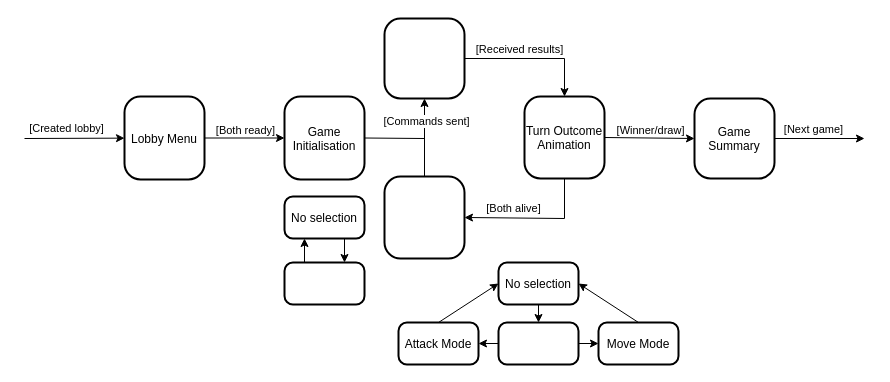
Image size: 890x382. Some labels were removed from this diagram. Here are the shapes that lost their labels. From the top down, the box of each, then its label:
(383, 17, 465, 99): Waiting for Turn Outcome
(383, 175, 465, 259): Command Mode
(283, 261, 365, 305): Swap Mode
(497, 321, 579, 365): Command Menu
